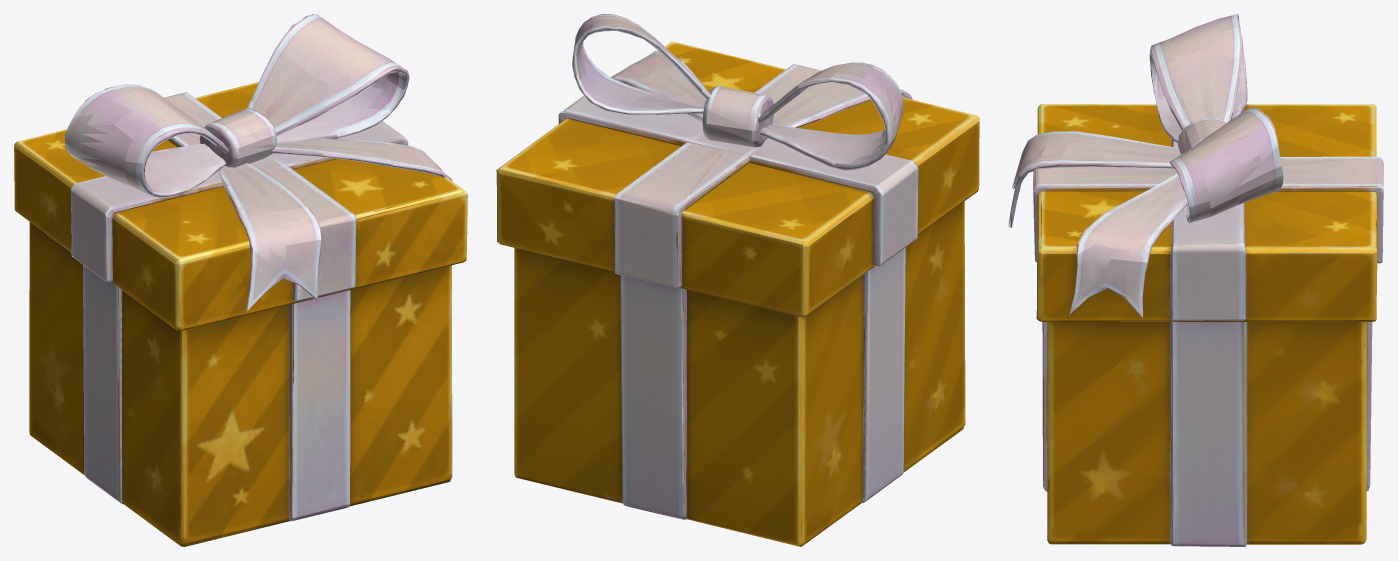
File: starlight_gift_gold.glb
The picture shows the model from 3 angles, left to right: view 1: azimuth 30°, elevation 25°; view 2: azimuth 150°, elevation 25°; view 3: azimuth 270°, elevation 25°; orthographic projection. The views are drawn at different scales.
Visible parts, largest first — view 1: mesh_node; view 2: mesh_node; view 3: mesh_node.
Part boxes in pixels (left/top/right/bottom): mesh_node: left=14, top=14, right=467, bottom=546; mesh_node: left=496, top=14, right=979, bottom=546; mesh_node: left=1008, top=14, right=1383, bottom=546.
Size of the model in its own units: 0.8555 by 1 by 0.8262.
Materials: 1 (1 with a texture image).
